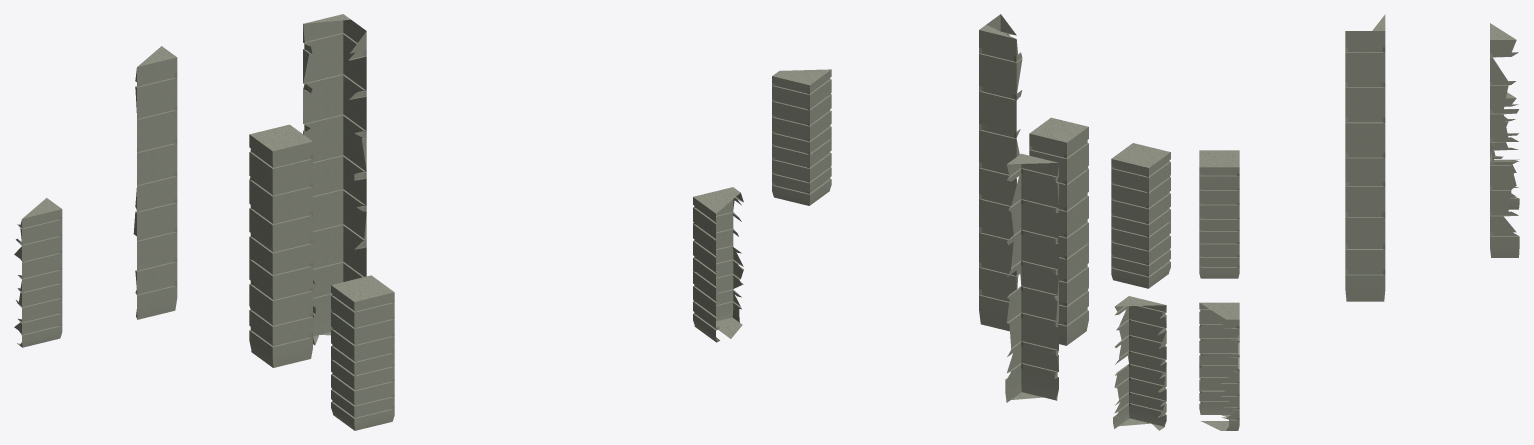
The model's file is Building1s.fbx.
3 renders of one model, left to right at view 1: azimuth 30°, elevation 25°; view 2: azimuth 150°, elevation 25°; view 3: azimuth 270°, elevation 25°, orthographic. The views are drawn at different scales.
Parts seen in each view (by area): view 1: polySurface8; view 2: polySurface8; view 3: polySurface8.
Part boxes in pixels (x1=…): polySurface8: x1=14, y1=14, x2=743, y2=430; polySurface8: x1=772, y1=14, x2=1170, y2=430; polySurface8: x1=1199, y1=14, x2=1519, y2=430.
Size of the model in its own units: 326 by 185 by 174.
2 materials, 2 textured.
